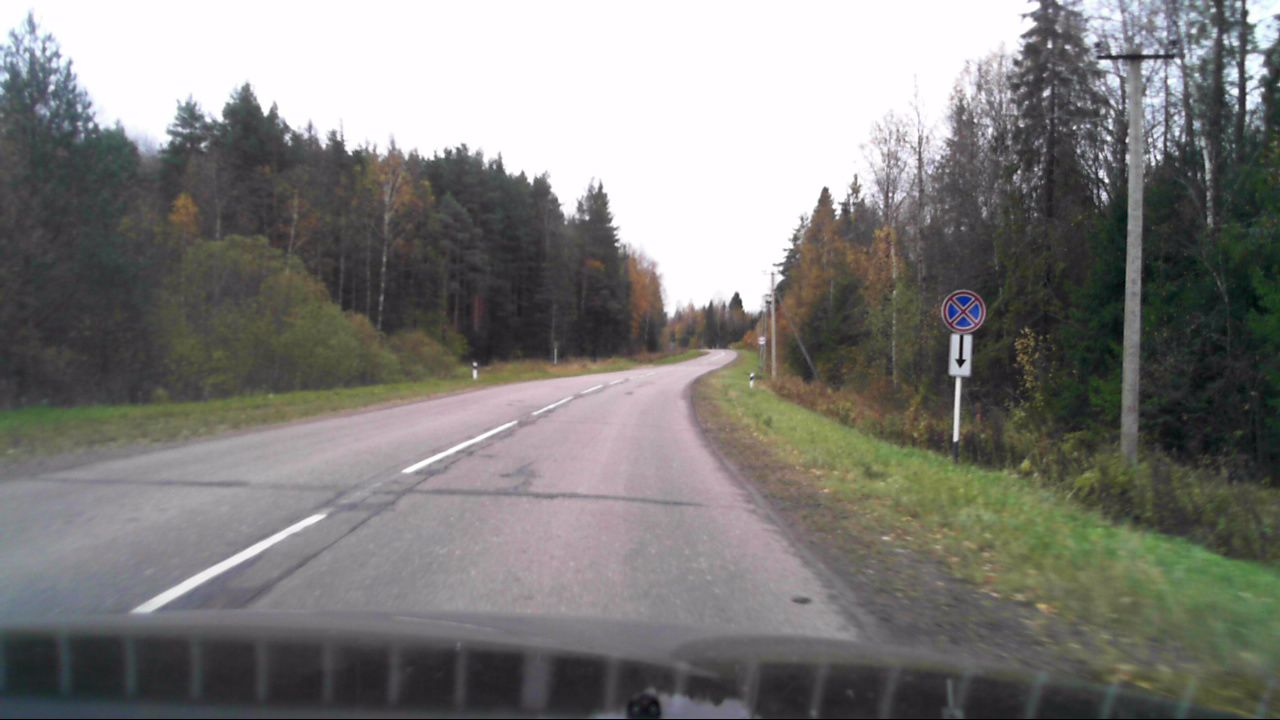No Parking: (939, 287, 987, 335)
